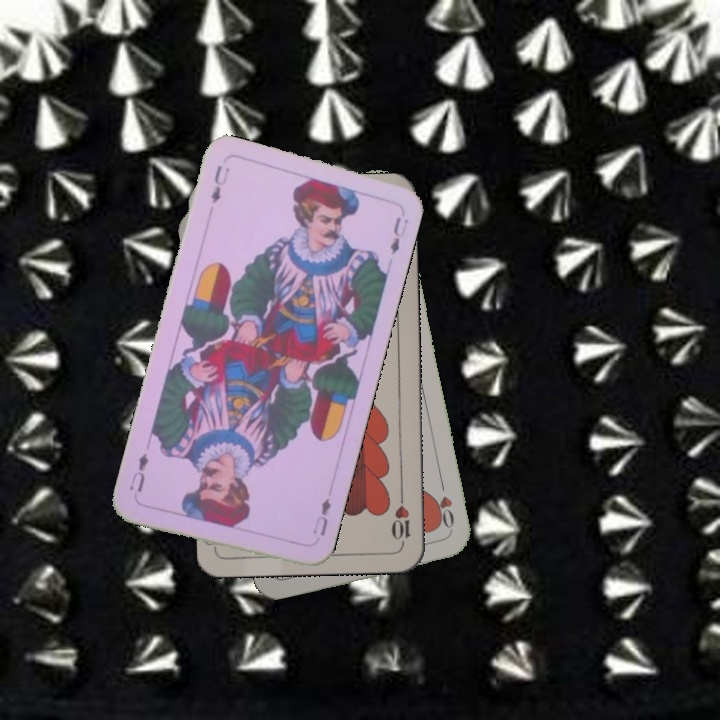EU: (206, 161, 233, 206), (309, 494, 334, 539)
H10: (389, 488, 412, 547)
HO: (434, 476, 457, 535)
